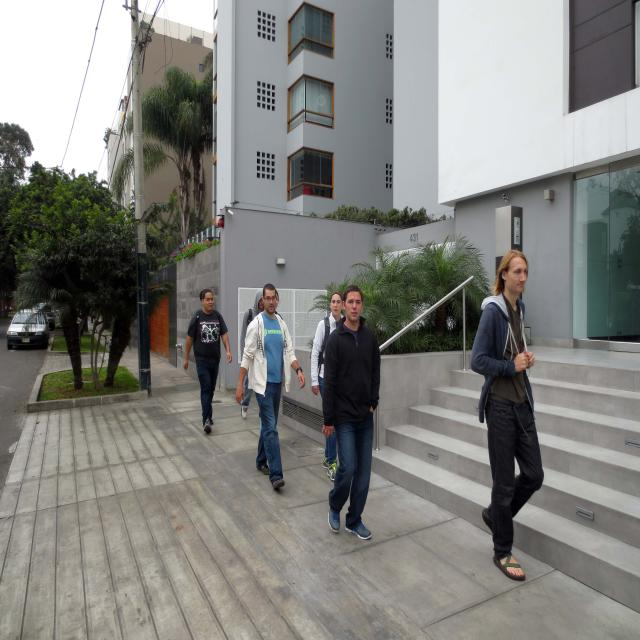body: (467, 246, 551, 584), (321, 284, 384, 541), (235, 280, 307, 490), (182, 286, 233, 436), (310, 289, 345, 482), (259, 289, 284, 434), (240, 288, 266, 419)
